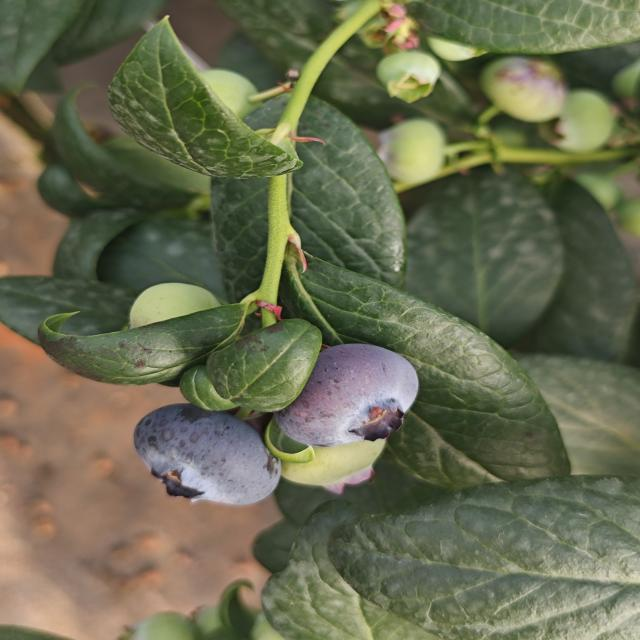ripe: (270, 341, 422, 450), (130, 401, 283, 508)
